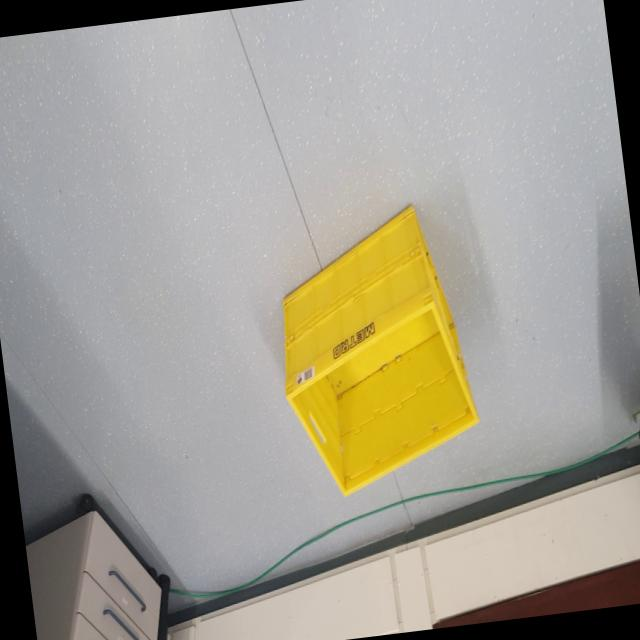box: (258, 185, 499, 507)
